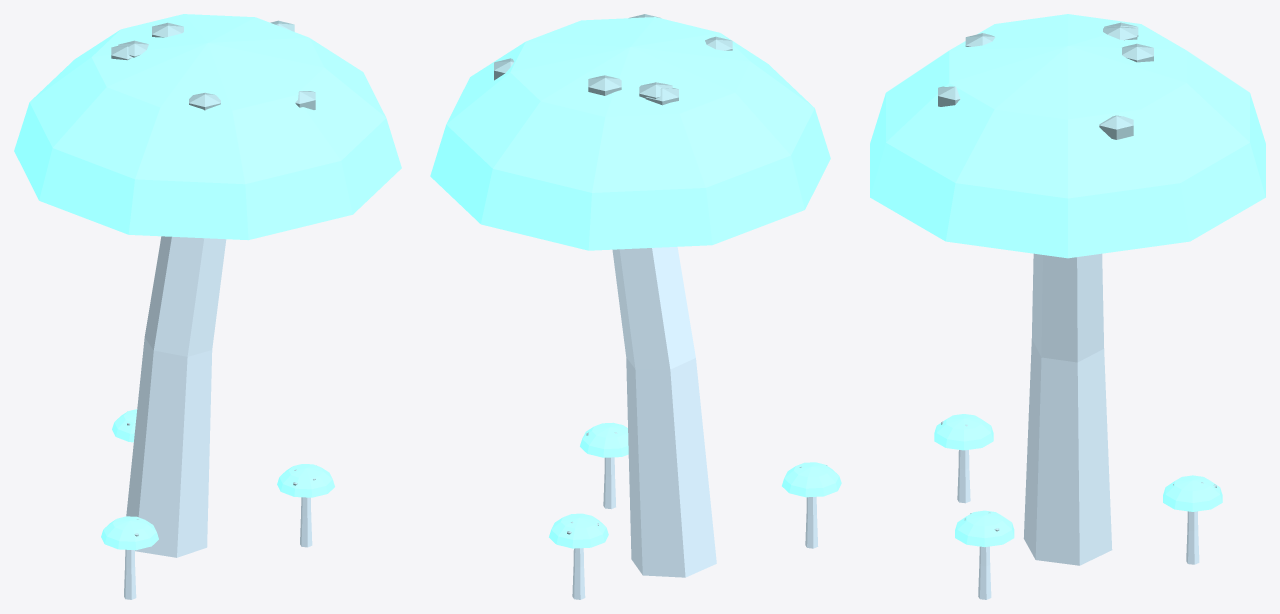
The model's file is Mine_GlowShroom_Giant.fbx.
The picture shows the model from 3 angles, left to right: view 1: azimuth 30°, elevation 25°; view 2: azimuth 150°, elevation 25°; view 3: azimuth 270°, elevation 25°; orthographic projection. The views are drawn at different scales.
Visible parts, largest first — view 1: Mine_GlowShroom_Giant_Body; view 2: Mine_GlowShroom_Giant_Body; view 3: Mine_GlowShroom_Giant_Body.
Part boxes in pixels (left/top/right/bottom): Mine_GlowShroom_Giant_Body: left=14, top=14, right=401, bottom=599; Mine_GlowShroom_Giant_Body: left=430, top=14, right=841, bottom=599; Mine_GlowShroom_Giant_Body: left=870, top=14, right=1265, bottom=599.
Size of the model in its own units: 2 by 2.77 by 1.9.
